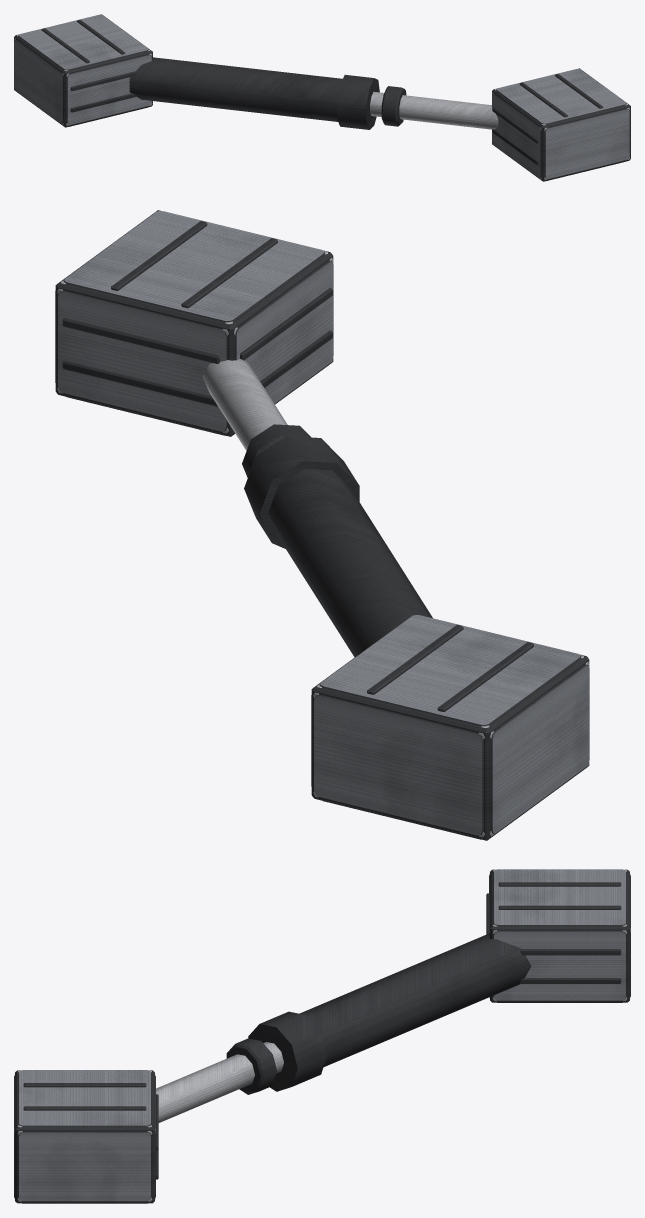
File: R4C_ROD_DIAG_2D_LONG.glb
3 renders of one model, top to bottom at view 1: azimuth 30°, elevation 25°; view 2: azimuth 150°, elevation 25°; view 3: azimuth 270°, elevation 25°, orthographic. The views are drawn at different scales.
Visible parts, largest first — view 1: R4C_ROD_DIAG_2D_LONG; view 2: R4C_ROD_DIAG_2D_LONG; view 3: R4C_ROD_DIAG_2D_LONG.
Boxes of the visible parts, x1,y1,x2,y2 form: R4C_ROD_DIAG_2D_LONG: (14, 14, 630, 181); R4C_ROD_DIAG_2D_LONG: (55, 210, 589, 840); R4C_ROD_DIAG_2D_LONG: (14, 869, 630, 1203).
Size of the model in its own units: 1.62 by 0.233 by 1.62.
4 materials, 4 textured.
